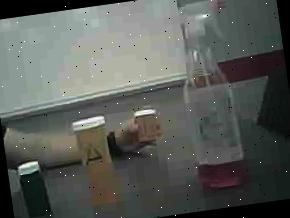Bottle A: (66, 109, 134, 214)
Bottle B: (127, 103, 170, 157)
Bottle C: (12, 157, 62, 218)
hazard: (156, 0, 267, 201)
